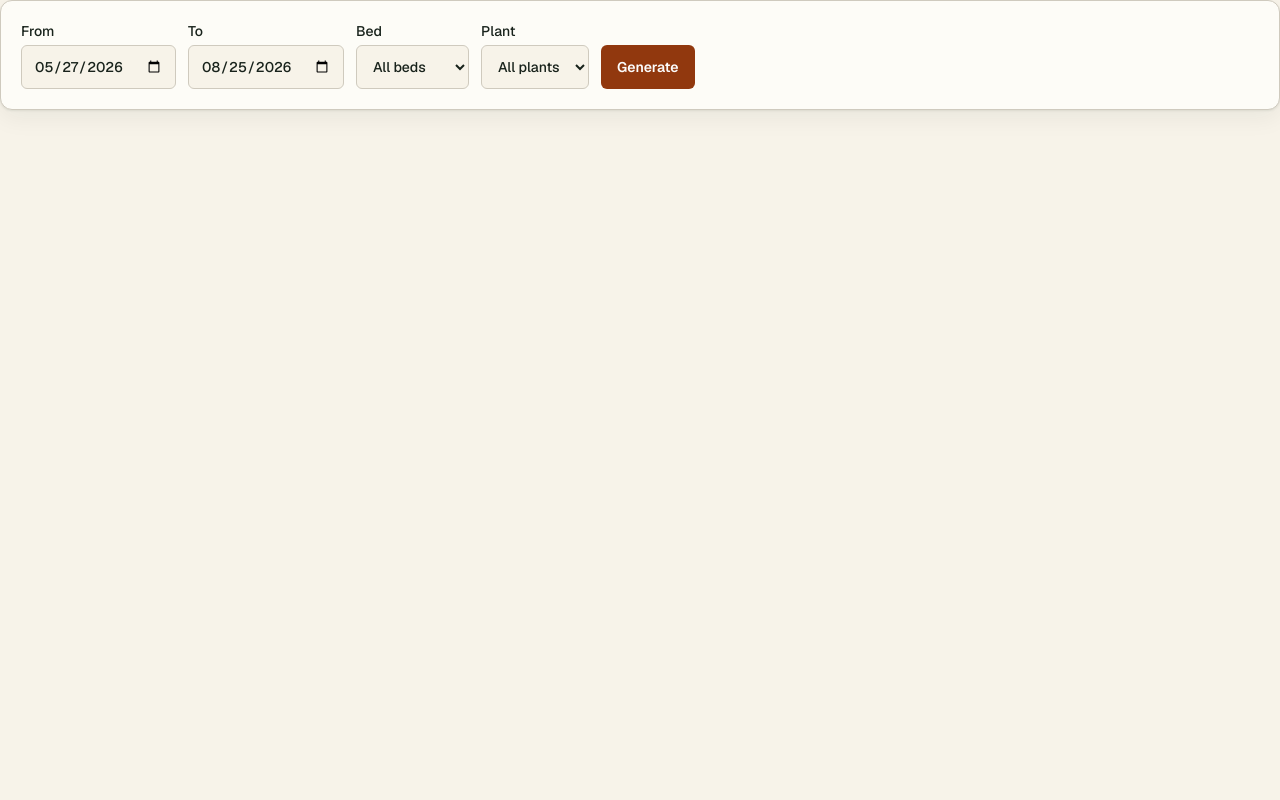
Test: TrendsPanel › fetches and renders both trends when Generate is clicked
The image size is (1280, 800).
Click the button "Generate".
click(648, 67)  # box top-left (601, 45), bottom-right (695, 89)
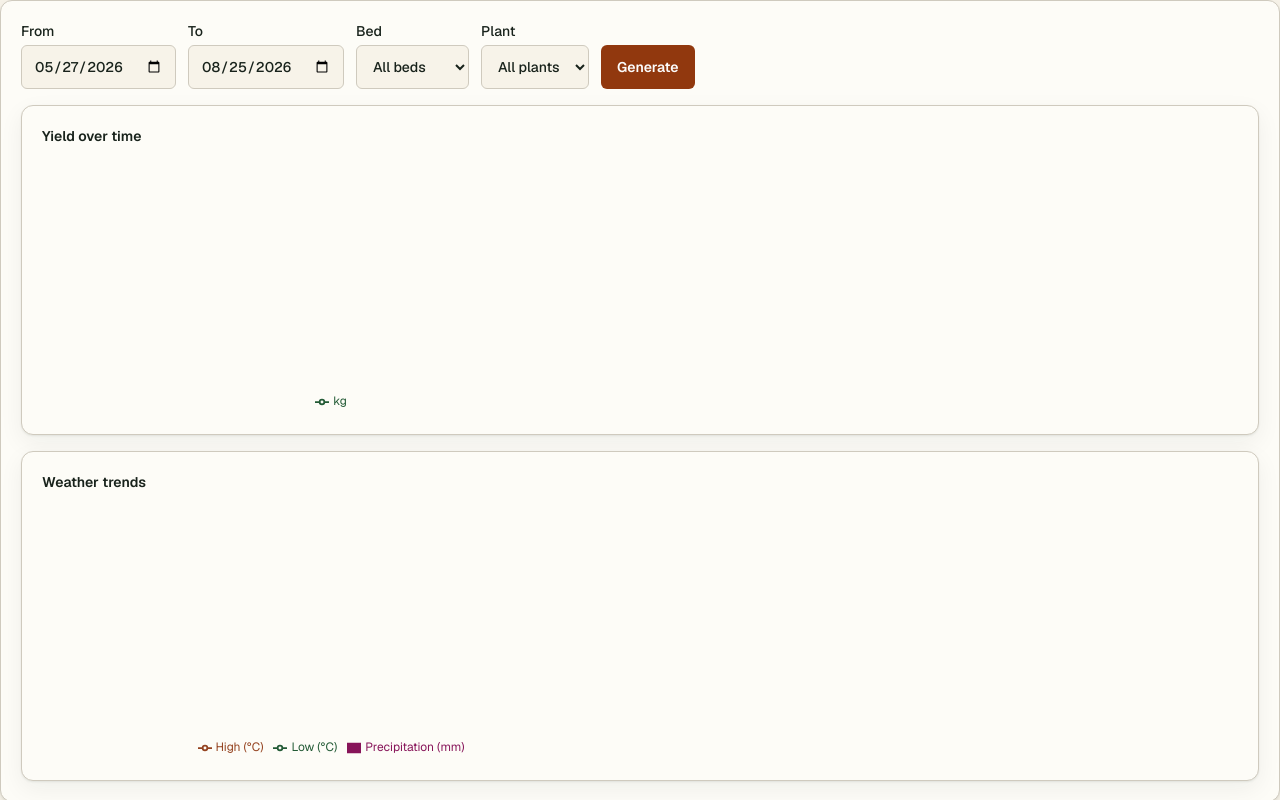
Expected: the heading "Yield over time" is shown, top-left (42, 127), bottom-right (141, 145)
Expected: the heading "Weather trends" is shown, top-left (42, 473), bottom-right (146, 491)
